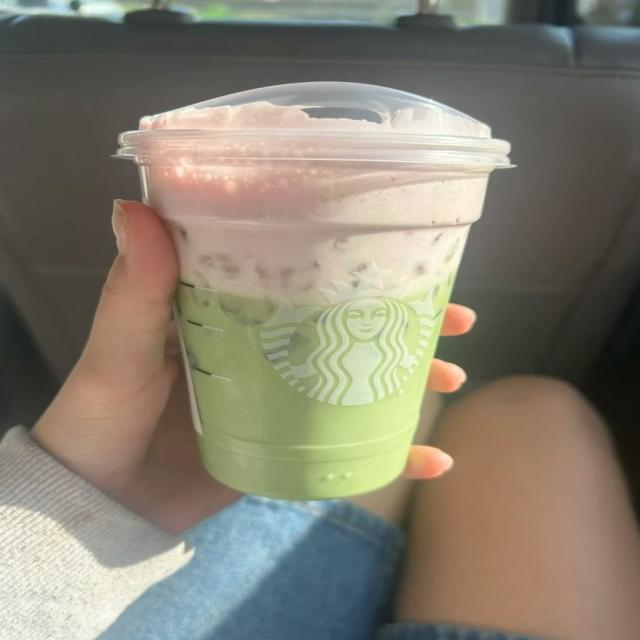plastic cup: (118, 80, 509, 500)
